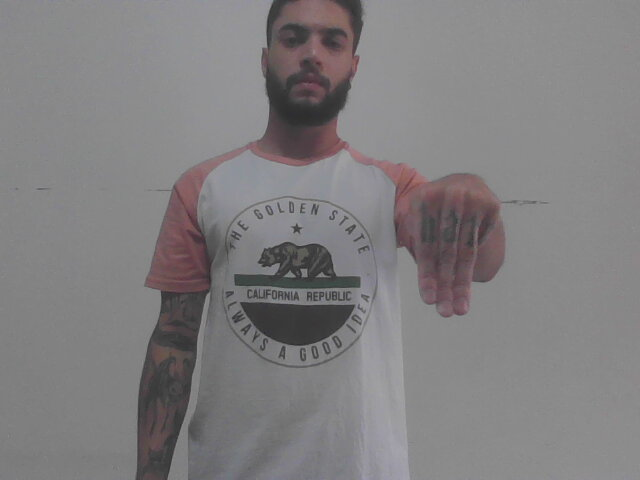m: (406, 165, 503, 323)
